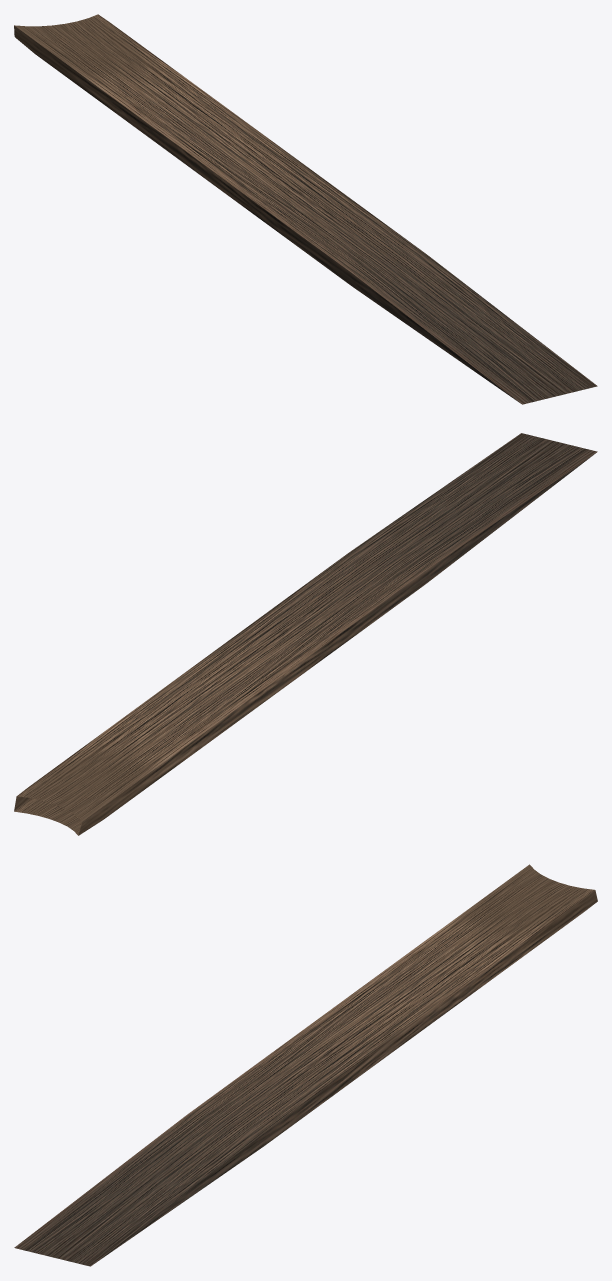
The model's file is Hair_Strand_Part_3.fbx.
3 views of the same model, one above another, from view 1: azimuth 30°, elevation 25°; view 2: azimuth 150°, elevation 25°; view 3: azimuth 330°, elevation 25° (orthographic).
Parts seen in each view (by area): view 1: Hair_Strand_Part_1; view 2: Hair_Strand_Part_1; view 3: Hair_Strand_Part_1.
Part boxes in pixels (bbox=[...]): Hair_Strand_Part_1: bbox=[14, 14, 597, 404]; Hair_Strand_Part_1: bbox=[14, 433, 597, 835]; Hair_Strand_Part_1: bbox=[14, 864, 597, 1266].
Size of the model in its own units: 8.76 by 1.47 by 102.
